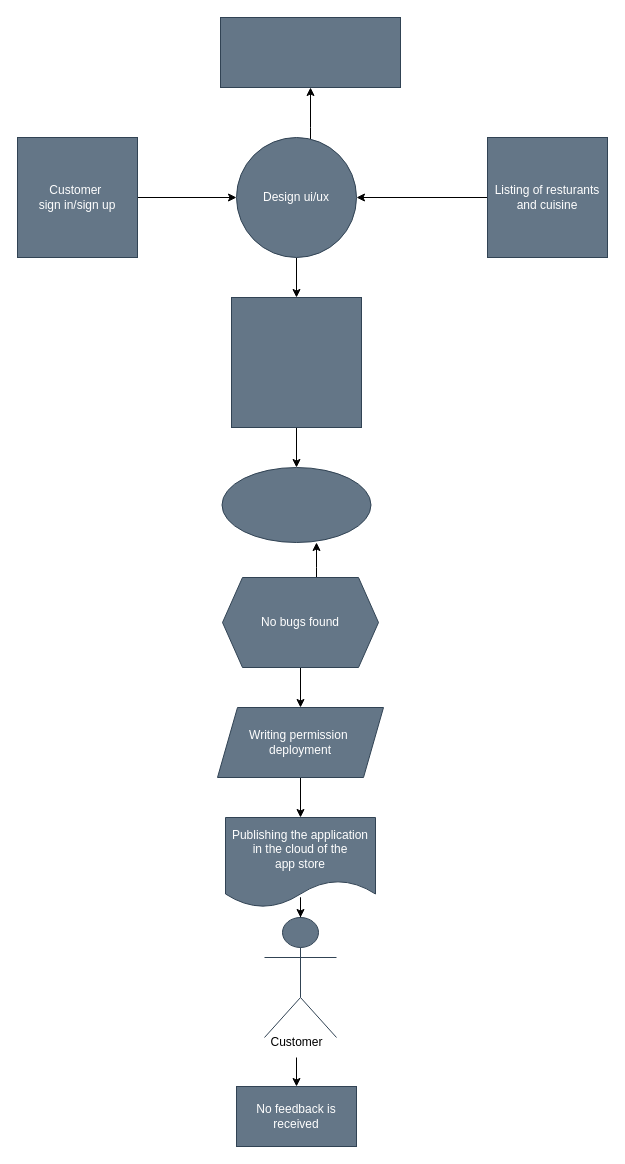
The diagram is 625 pixels wide and 1164 high, and some of its shapes have lost their labels. The centre of each missing label's shape, as x and y in pixels:
"Check out page and RTX" belongs at (x=296, y=362).
"Chezzy pizza" belongs at (x=310, y=52).
"Compiling of APX" belongs at (x=296, y=504).
